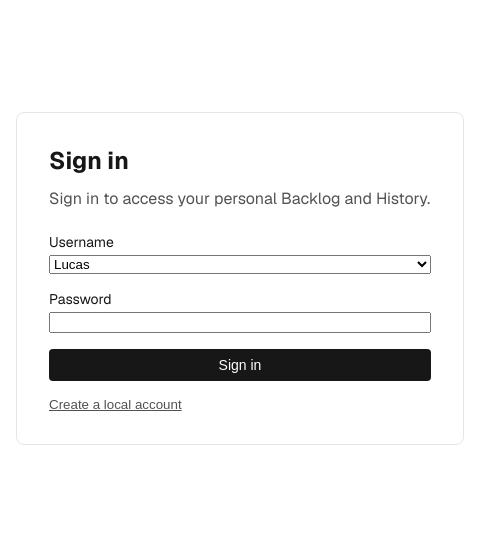
Scenario: AuthClient › switches to registration and reports an API error
Click the button "Create a local account": [115, 404] box [49,396,431,412]
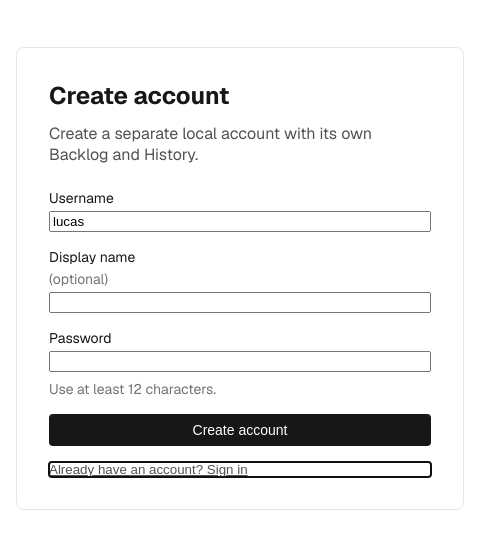
In the field labelled "Username": [240, 221] box [49,210,431,232], type "new-user"
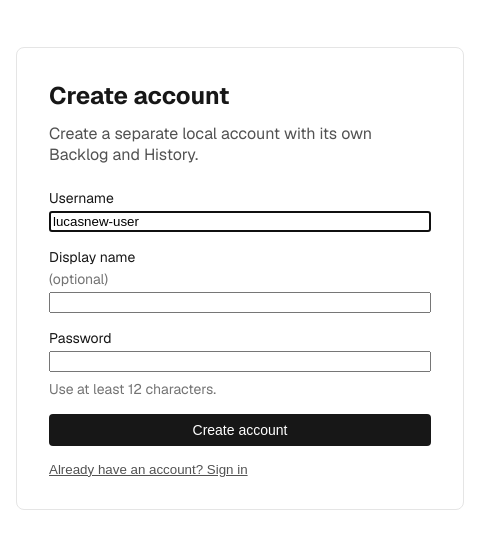
In the password field labelled "Password": [240, 361] box [49,350,431,372], type "long-enough-password"
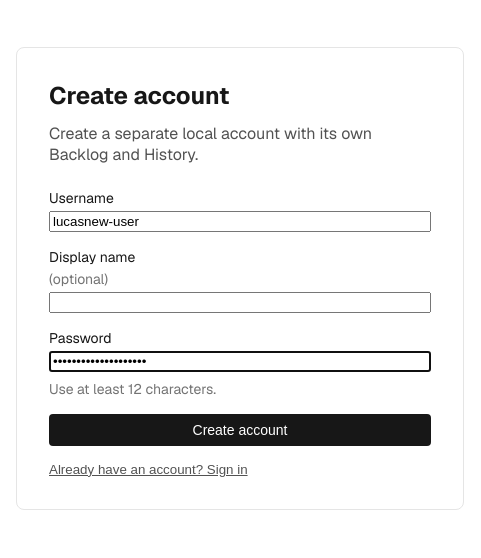
Click the button "Create account": [240, 430] box [49,414,431,446]
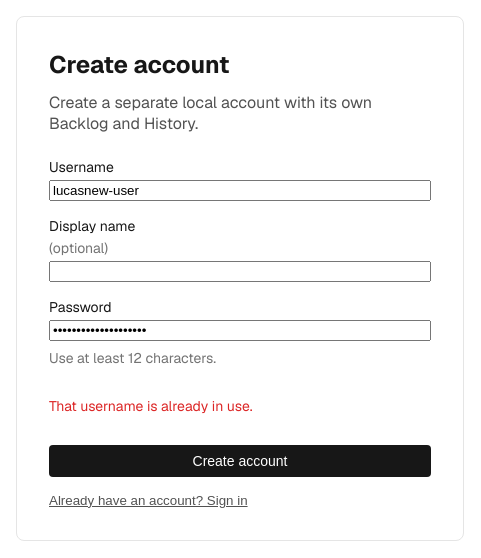
expect the text "That username is already in use." is shown: met, box [49,396,253,414]
